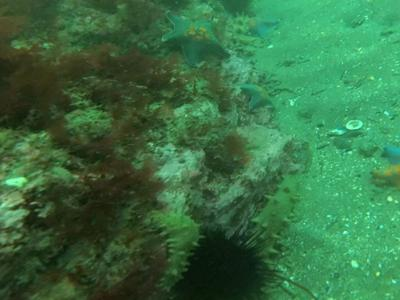holothurian: (145, 208, 199, 293), (249, 172, 300, 248), (228, 11, 262, 59)
scallop: (345, 119, 364, 130)
urchin: (164, 220, 287, 297)
